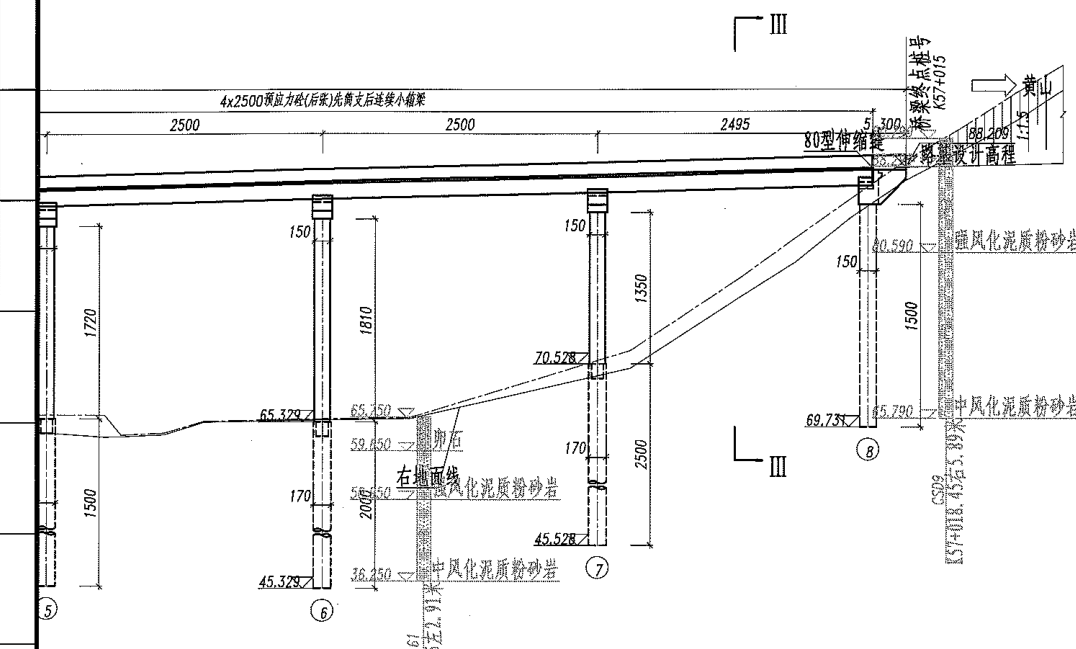B: (36, 91, 883, 117)
C: (513, 183, 630, 586), (240, 188, 345, 630), (792, 171, 885, 468), (42, 198, 78, 624)
